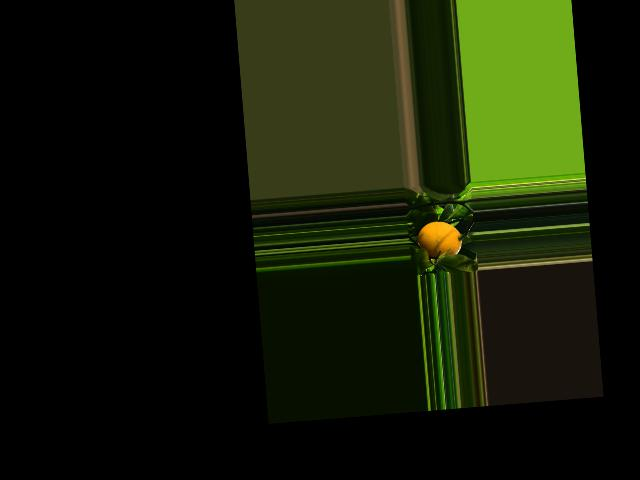lemon: (415, 218, 465, 260)
